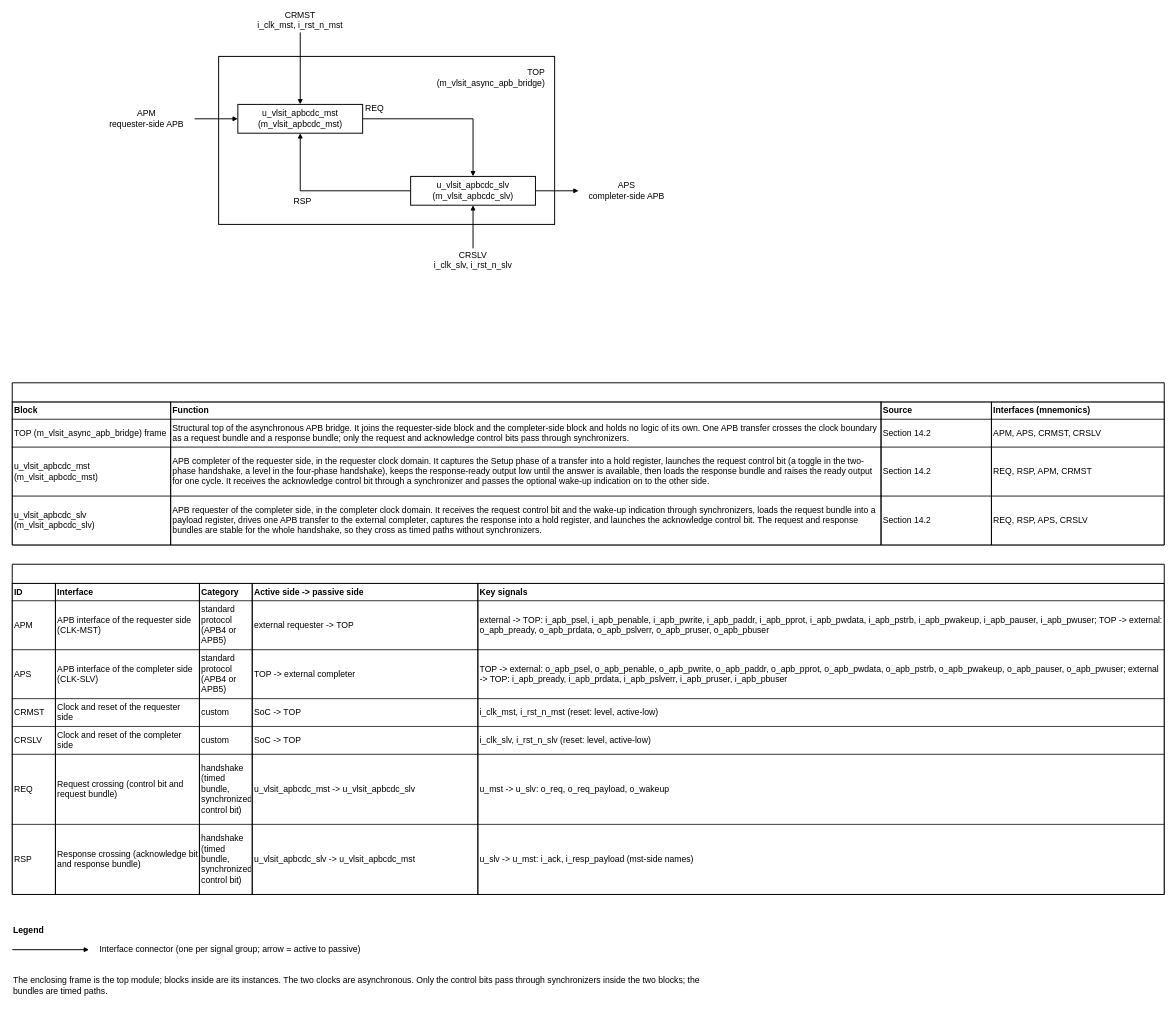
This 1173x1015 diagram has some shape labels left out. Each missing label, with the box of its shape:
Block Functions & Interfaces: (12, 382, 1164, 545)
Interface Table: (12, 564, 1164, 895)
